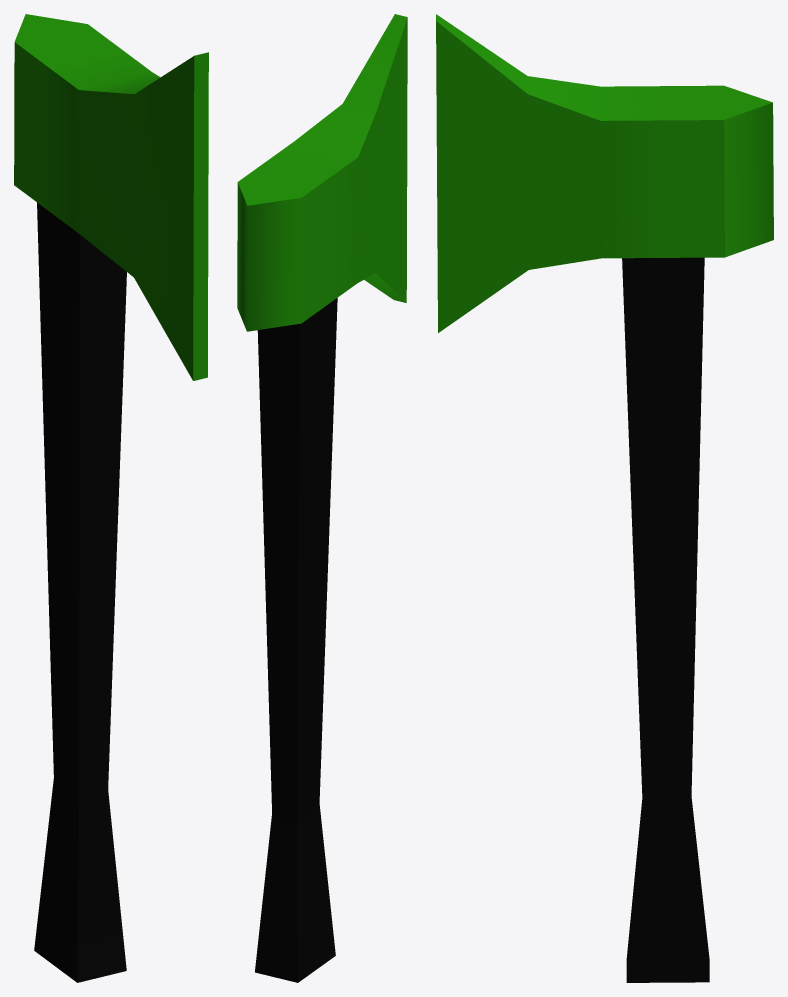
The model's file is Axe_KW.fbx.
The picture shows the model from 3 angles, left to right: view 1: azimuth 30°, elevation 25°; view 2: azimuth 150°, elevation 25°; view 3: azimuth 270°, elevation 25°; orthographic projection. The views are drawn at different scales.
Parts seen in each view (by area): view 1: Axe_KW; view 2: Axe_KW; view 3: Axe_KW.
Boxes of the visible parts, x1=… form: Axe_KW: x1=14, y1=14, x2=208, y2=982; Axe_KW: x1=237, y1=14, x2=407, y2=982; Axe_KW: x1=436, y1=14, x2=773, y2=982.
Bounding box in the file's own units: 9.13 × 119 × 38.05.
